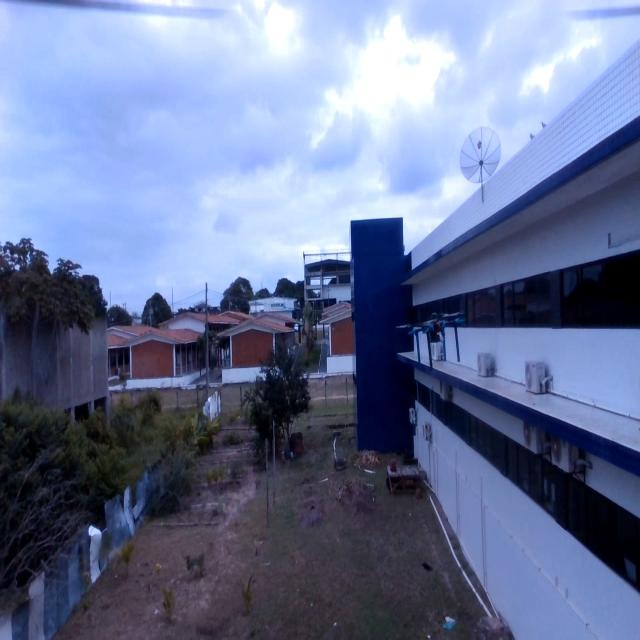-uav-: (395, 296, 472, 378)
